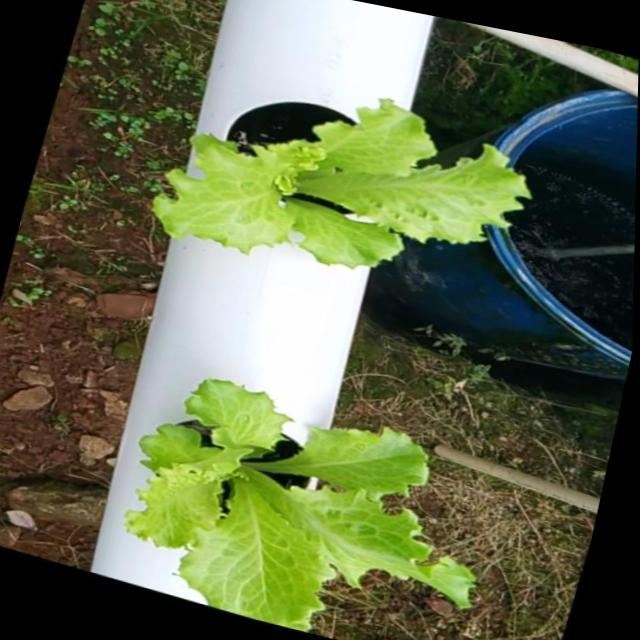Baby: (125, 373, 478, 627), (159, 96, 544, 269)
